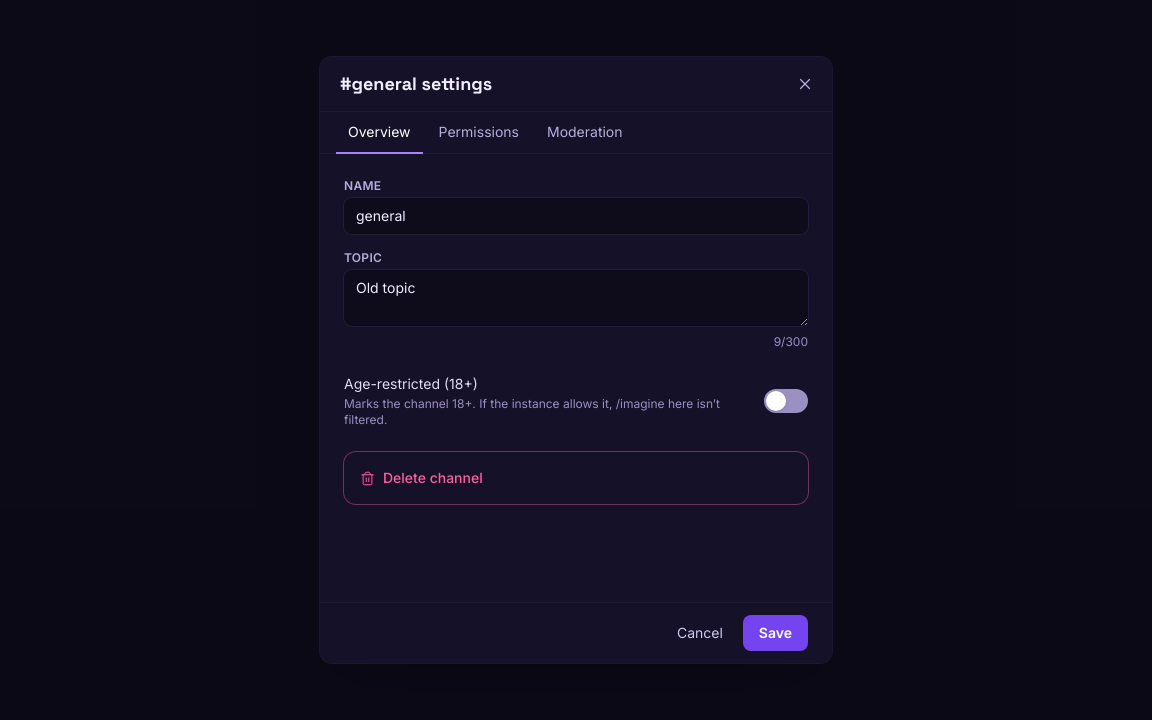
Test: an empty name is refused before anything is saved; a server refusal is shown
Replace the text in the field labelled "Name" with " !! ": (576, 216) [344,198,808,234]
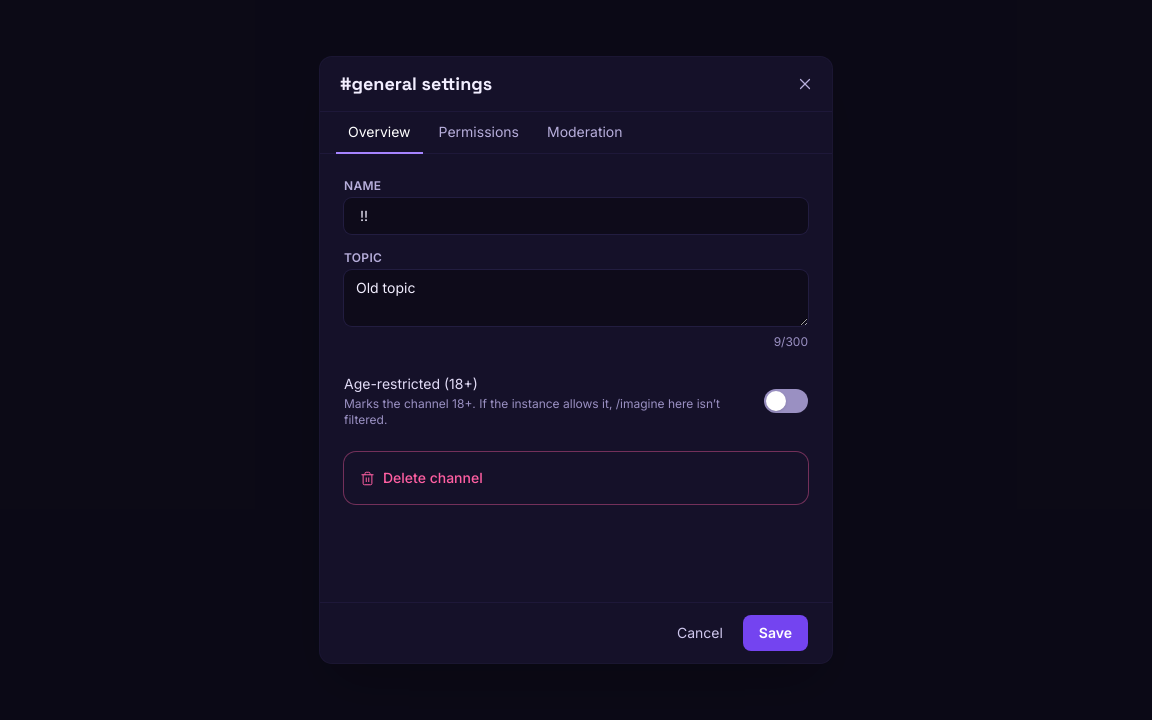
Click the button "Save": (775, 633) [743,615,808,651]
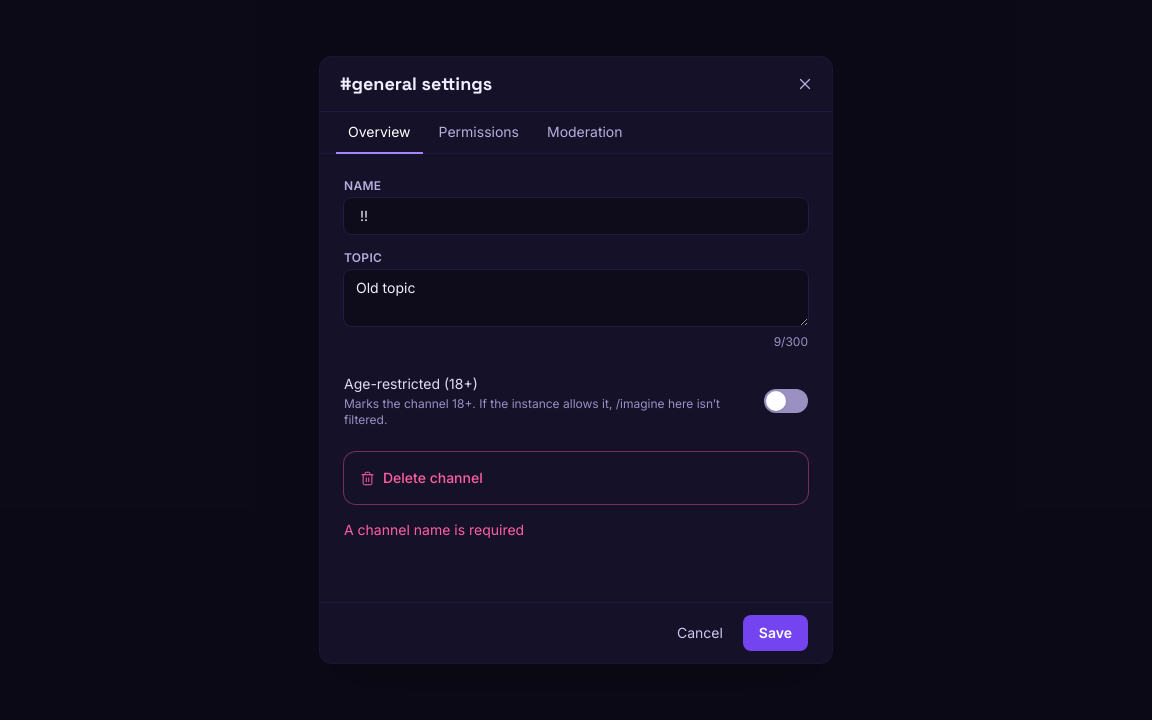
Expected: the text "A channel name is required" is shown, [344,521,524,538]
Replace the text in the field labelled "Name" with "random": (576, 216) [344,198,808,234]
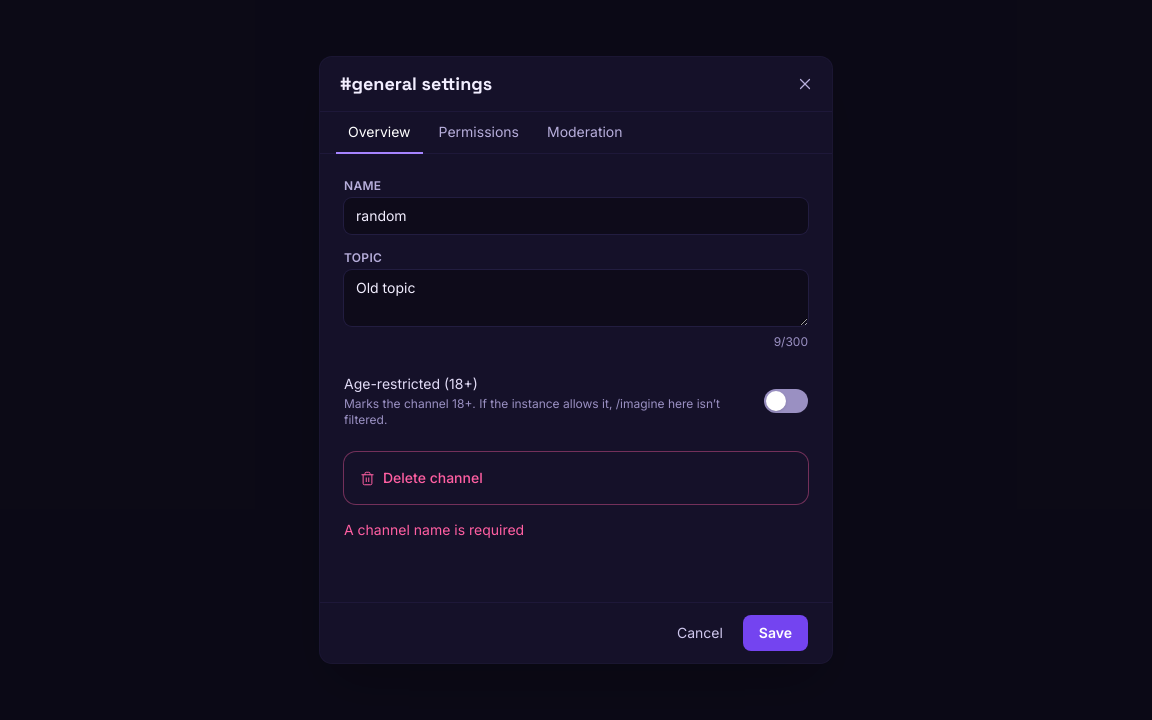
Click the button "Save": (775, 633) [743,615,808,651]
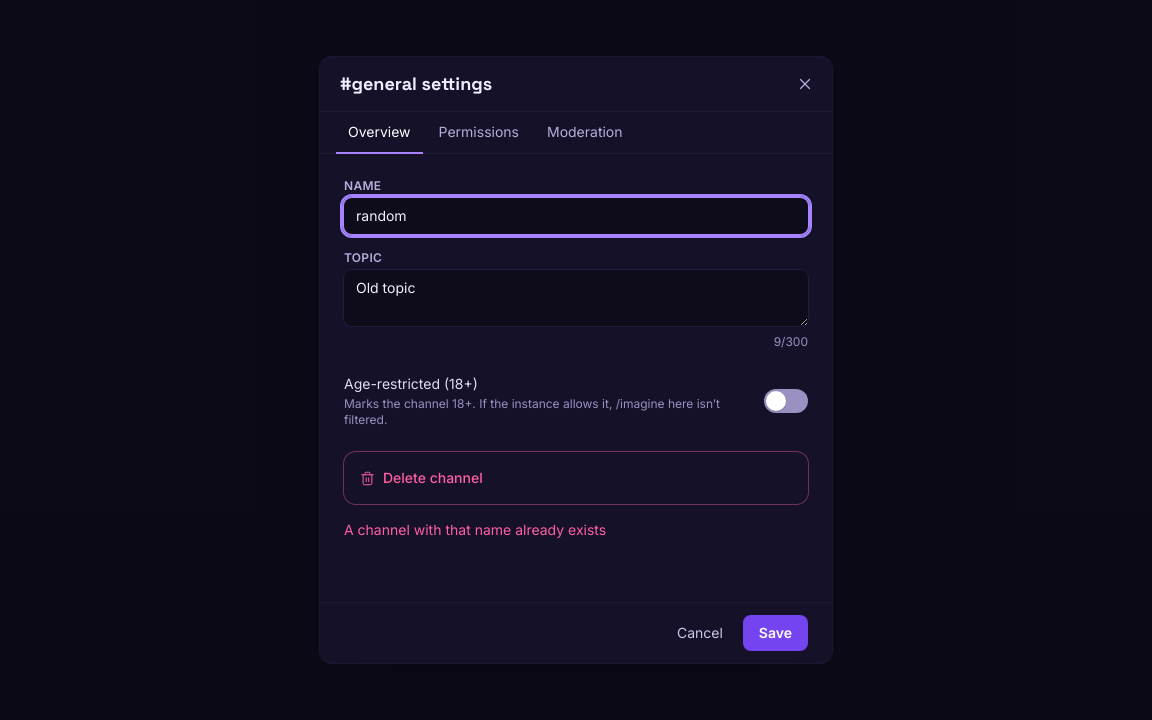
Expected: the text "A channel with that name already exists" is shown, [344,521,606,538]
